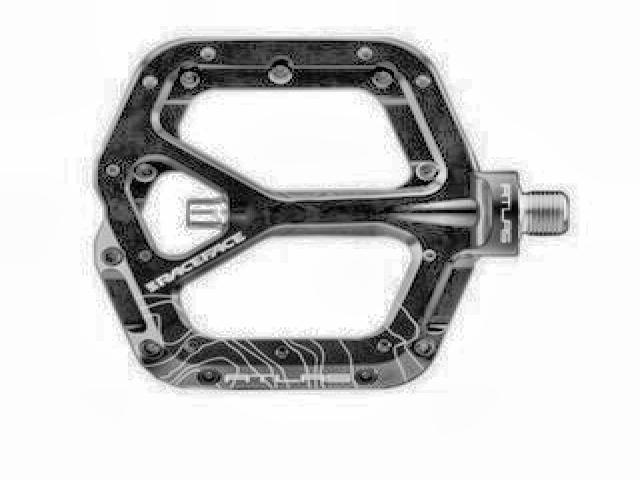pedal: (86, 32, 574, 394)
